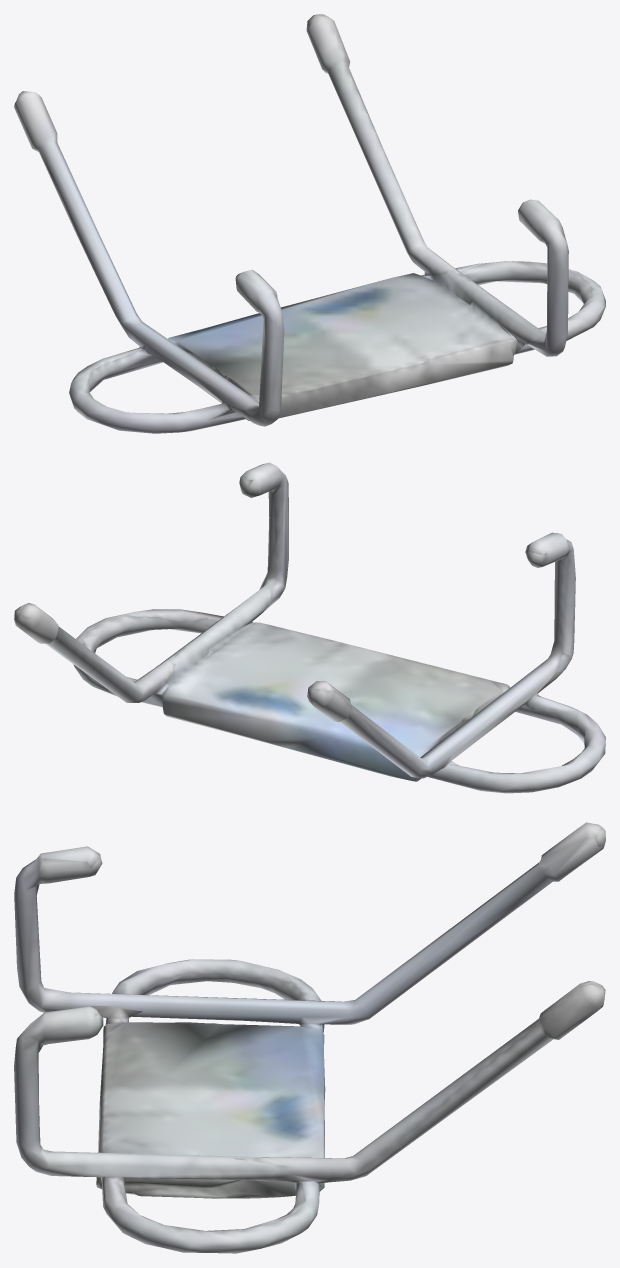
Rendered from Spectrum_Wall_Mount-medium.glb.
3 views of the same model, one above another, from view 1: azimuth 30°, elevation 25°; view 2: azimuth 150°, elevation 25°; view 3: azimuth 270°, elevation 25° (orthographic). The views are drawn at different scales.
Visible parts, largest first — view 1: Spectrum_Wall_Mount; view 2: Spectrum_Wall_Mount; view 3: Spectrum_Wall_Mount.
Part boxes in pixels (bbox=[...]): Spectrum_Wall_Mount: bbox=[14, 14, 605, 433]; Spectrum_Wall_Mount: bbox=[14, 462, 605, 793]; Spectrum_Wall_Mount: bbox=[14, 822, 605, 1253].
Bounding box in the file's own units: 0.1602 × 0.0597 × 0.1392.
1 material, 1 textured.
